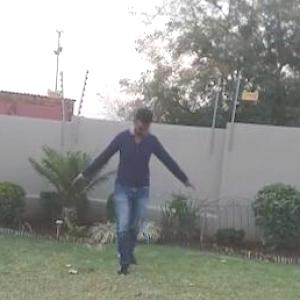land: (76, 108, 207, 282)
